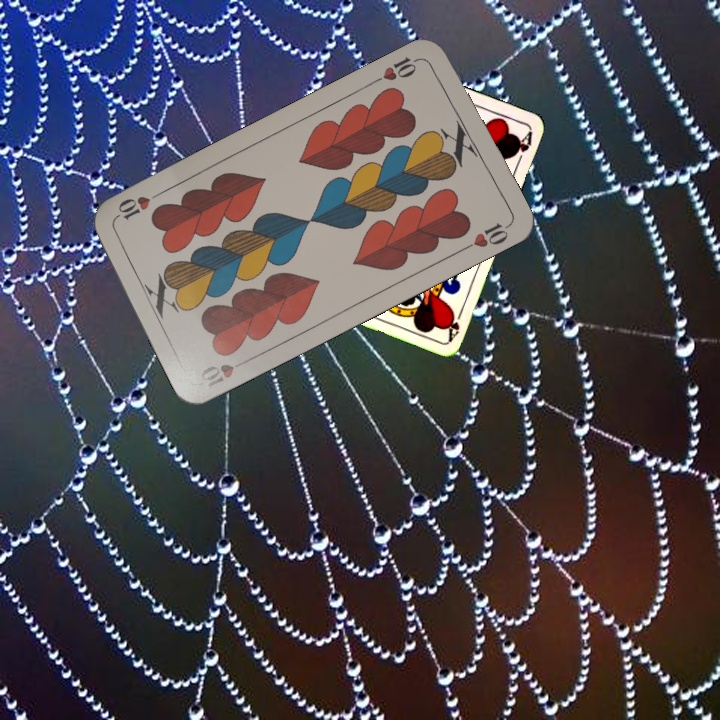H10: (196, 354, 252, 391), (369, 53, 425, 86)
HA: (444, 303, 466, 342)
